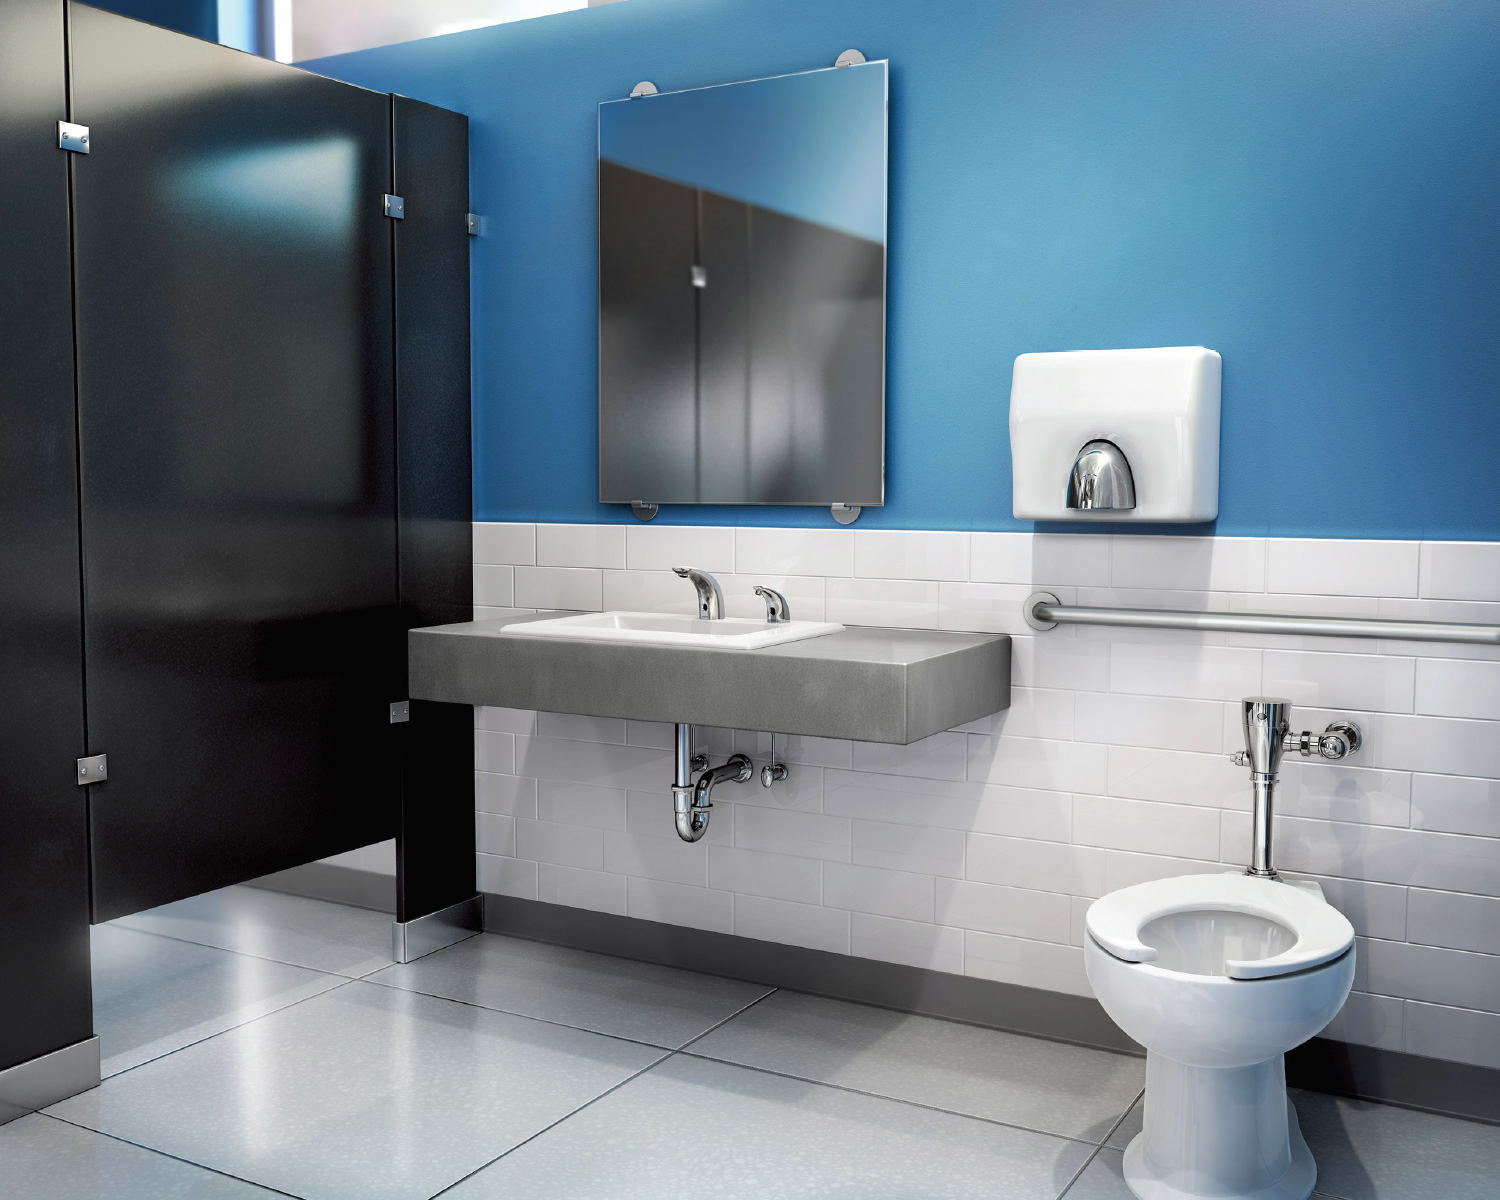countertop: (408, 606, 1011, 740)
faucet: (671, 566, 729, 616), (749, 584, 797, 623)
restroom_assist_bar: (1029, 588, 1500, 639)
sink: (497, 612, 845, 654)
toilet: (1082, 874, 1360, 1200)
